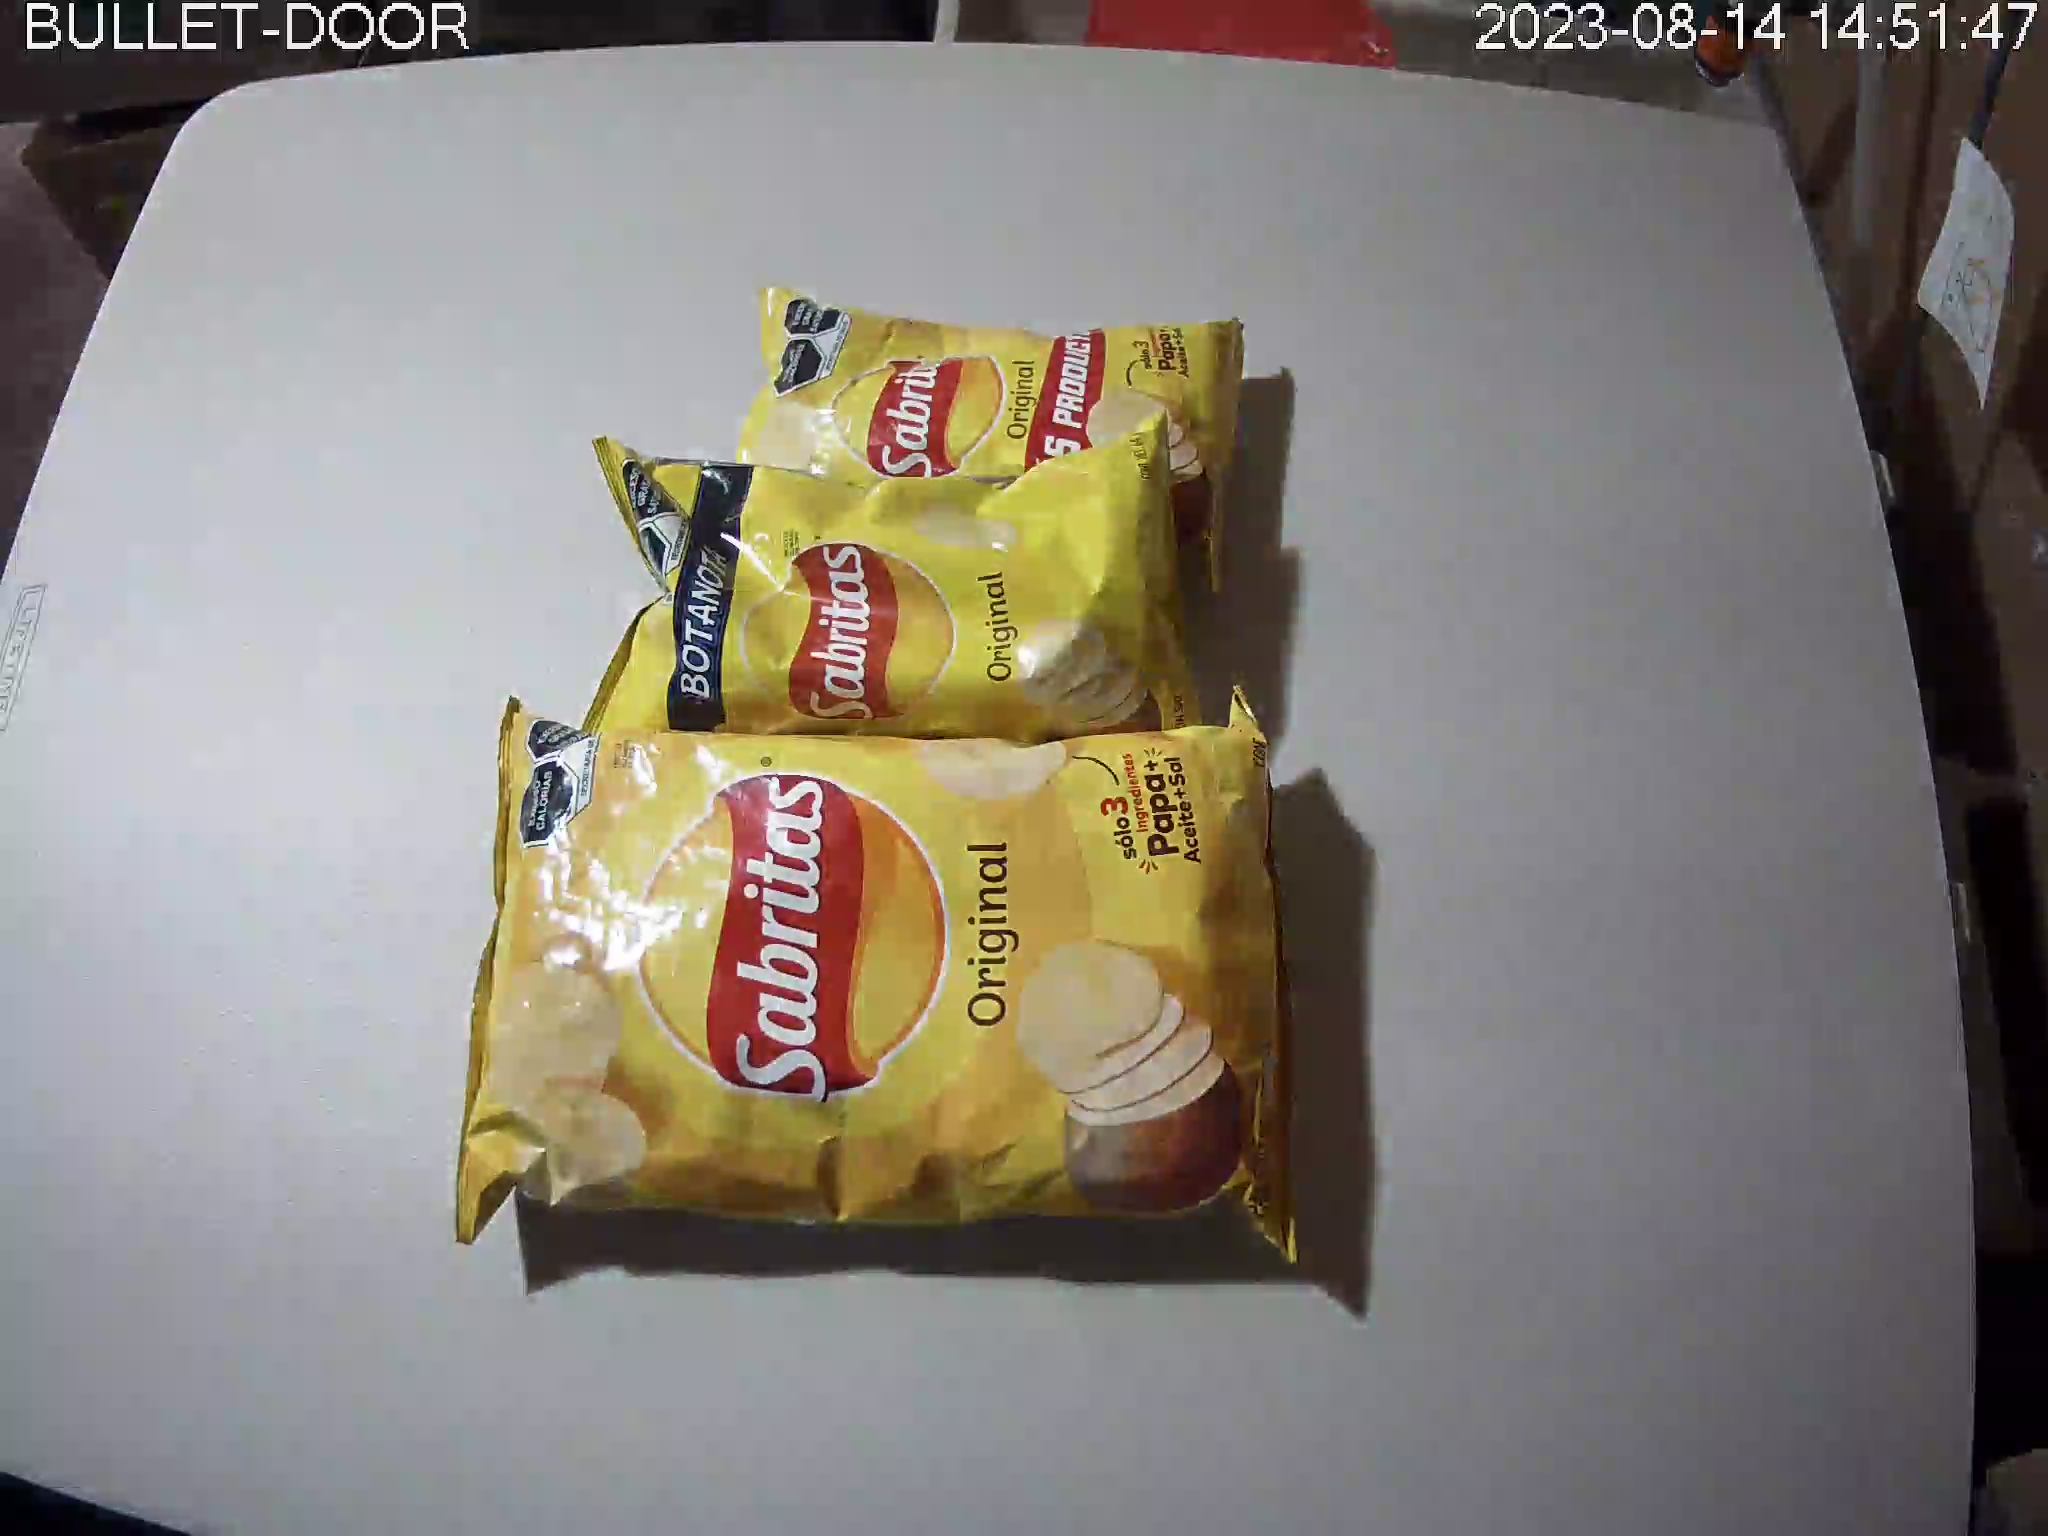Sabritas_160_F: (453, 689, 1300, 1270)
Sabritas_45_F: (731, 279, 1250, 503)
Sabritas_64_F: (572, 434, 1216, 737)
